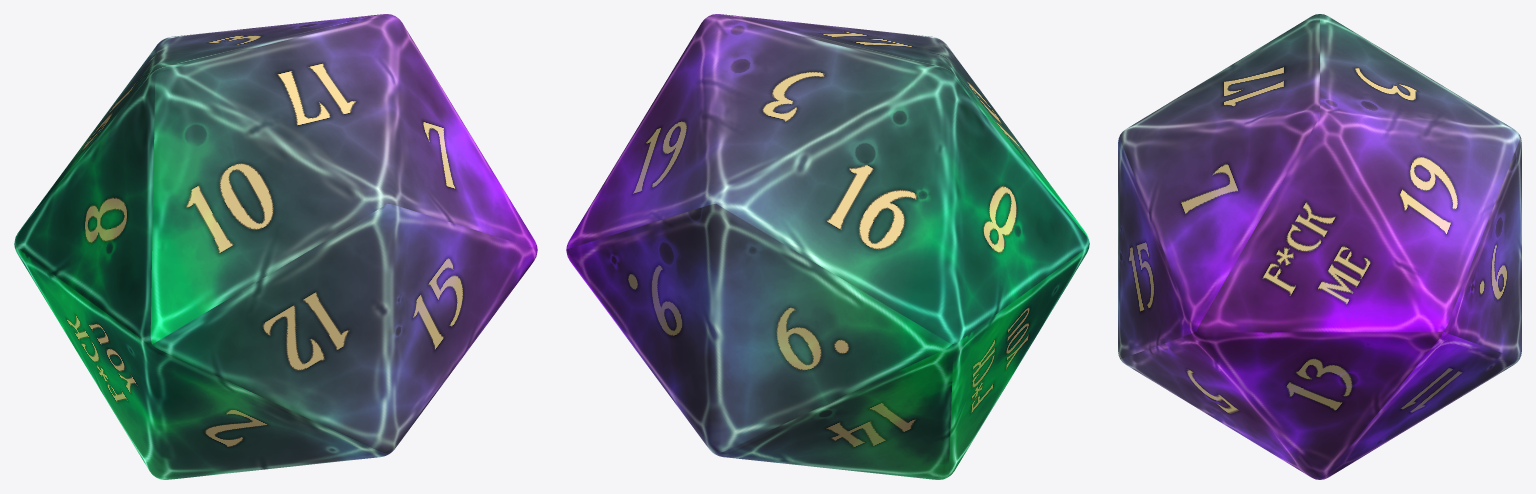
The picture shows the model from 3 angles, left to right: view 1: azimuth 30°, elevation 25°; view 2: azimuth 150°, elevation 25°; view 3: azimuth 270°, elevation 25°; orthographic projection. The views are drawn at different scales.
Visible parts, largest first — view 1: d20; view 2: d20; view 3: d20.
Boxes of the visible parts, x1=… form: d20: x1=14, y1=14, x2=537, y2=479; d20: x1=566, y1=14, x2=1089, y2=479; d20: x1=1118, y1=14, x2=1521, y2=479.
Bounding box in the file's own units: 1.69 × 1.69 × 1.69.
Materials: 1 (1 with a texture image).
